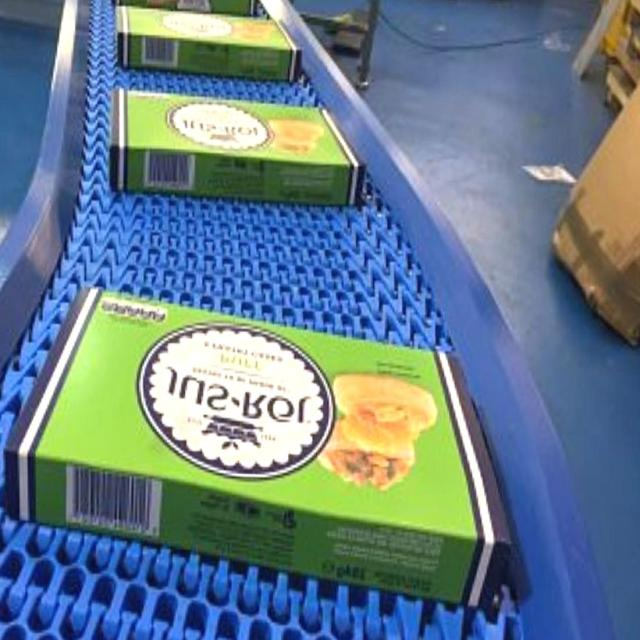food: (3, 282, 531, 616), (108, 84, 364, 208), (114, 2, 303, 84)
